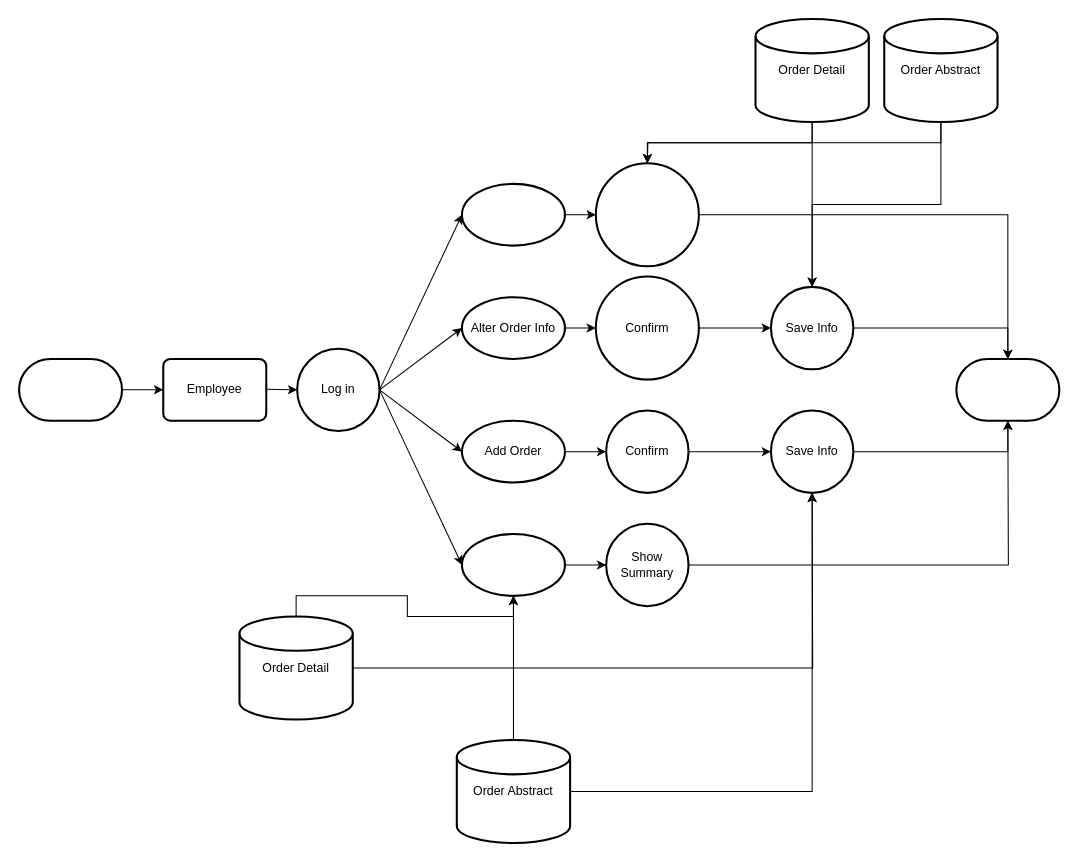
This 1077x861 diagram has some shape labels left out. Each missing label, with the centre of its shape:
"End" goes at [1007,389].
"Get Order Info" goes at [512,214].
"Show Order Info" goes at [646,214].
"Start" goes at [70,389].
"Summary" goes at [512,564].
